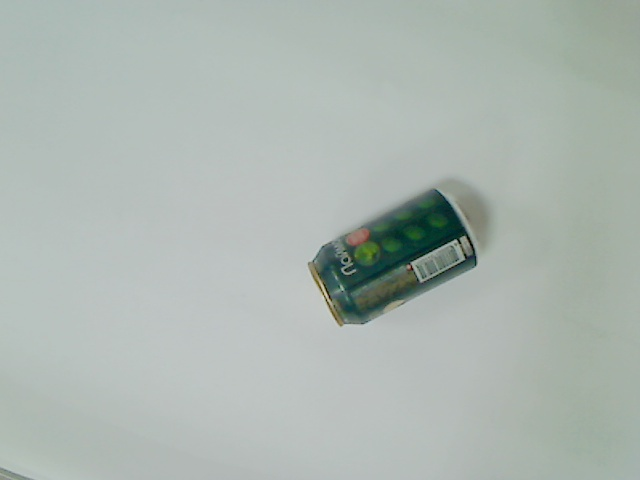can: (303, 181, 483, 328)
